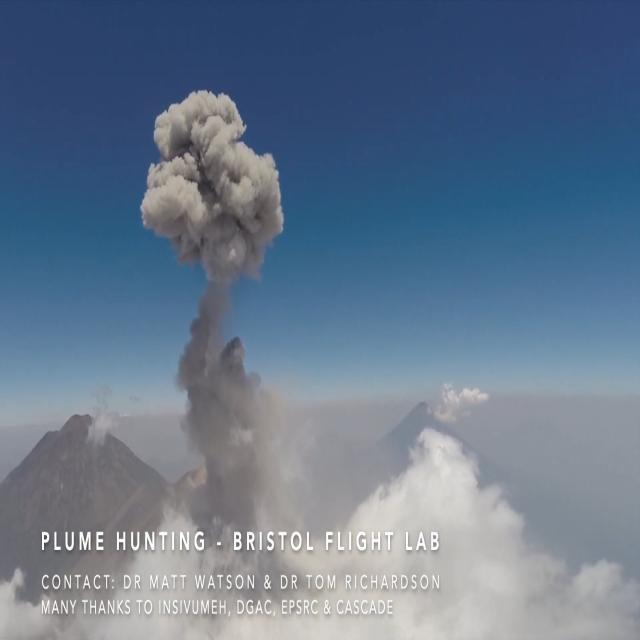Plume: (138, 75, 284, 286), (172, 289, 279, 523)
